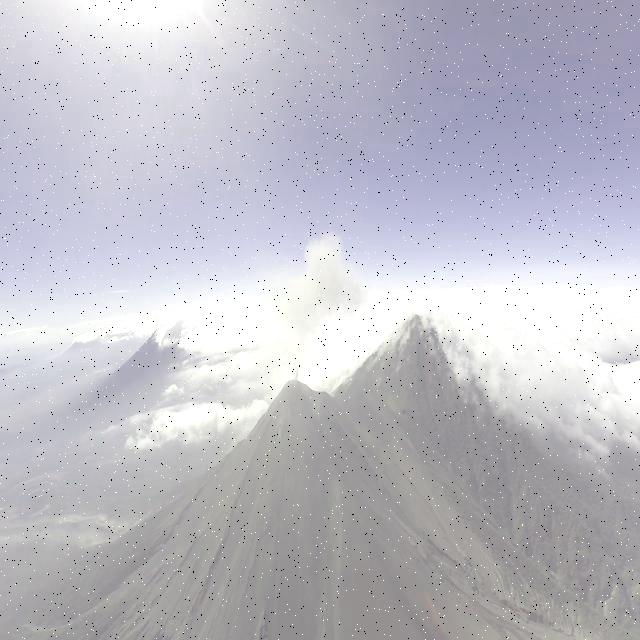Plume: (271, 232, 370, 356)
Summit: (273, 377, 322, 409)
